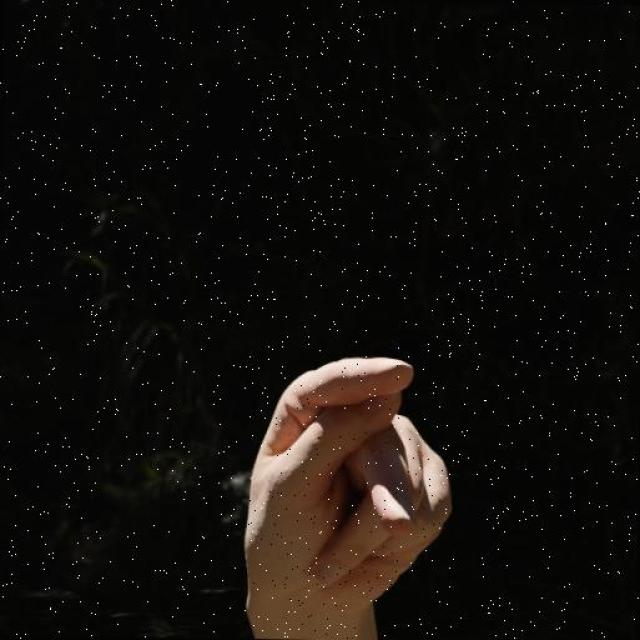P: (231, 342, 460, 640)
